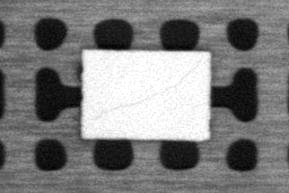DIE_CRACK: (97, 60, 204, 117)
